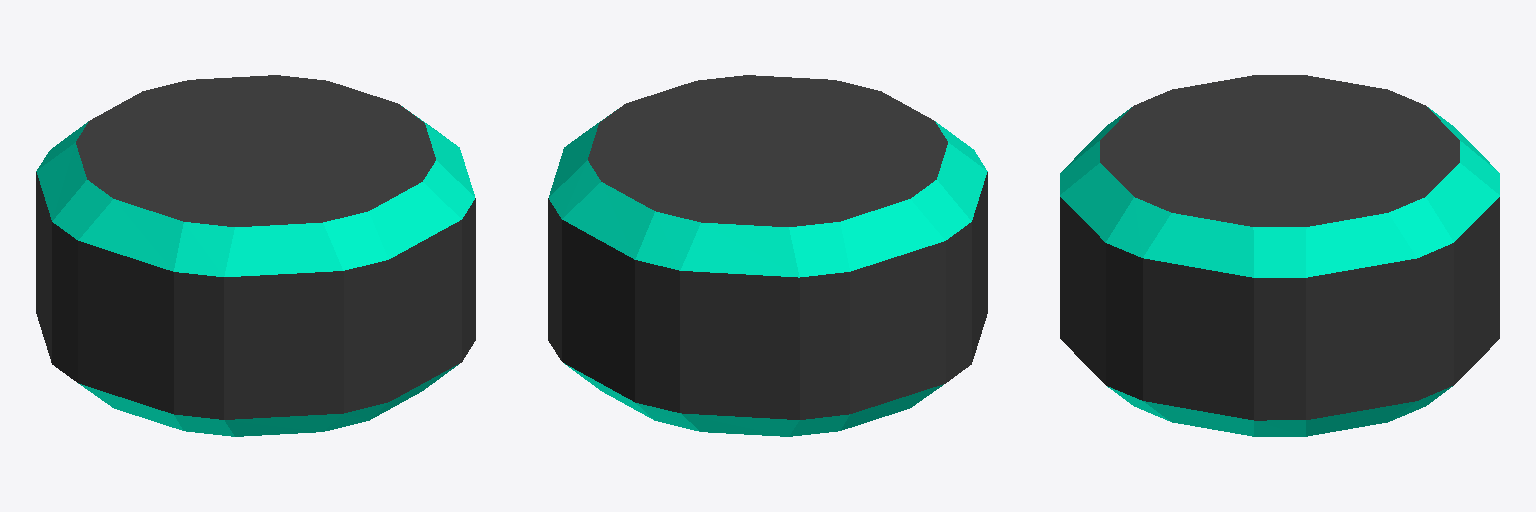
3 views of the same model, side by side, from view 1: azimuth 30°, elevation 25°; view 2: azimuth 150°, elevation 25°; view 3: azimuth 270°, elevation 25° (orthographic).
Parts seen in each view (by area): view 1: pCylinder1; view 2: pCylinder1; view 3: pCylinder1.
Boxes of the visible parts, x1,y1,x2,y2 form: pCylinder1: [36, 75, 475, 436]; pCylinder1: [548, 75, 987, 436]; pCylinder1: [1060, 75, 1499, 436].
Bounding box in the file's own units: 0.9533 × 0.5 × 0.9533.
Materials: 1 (1 with a texture image).